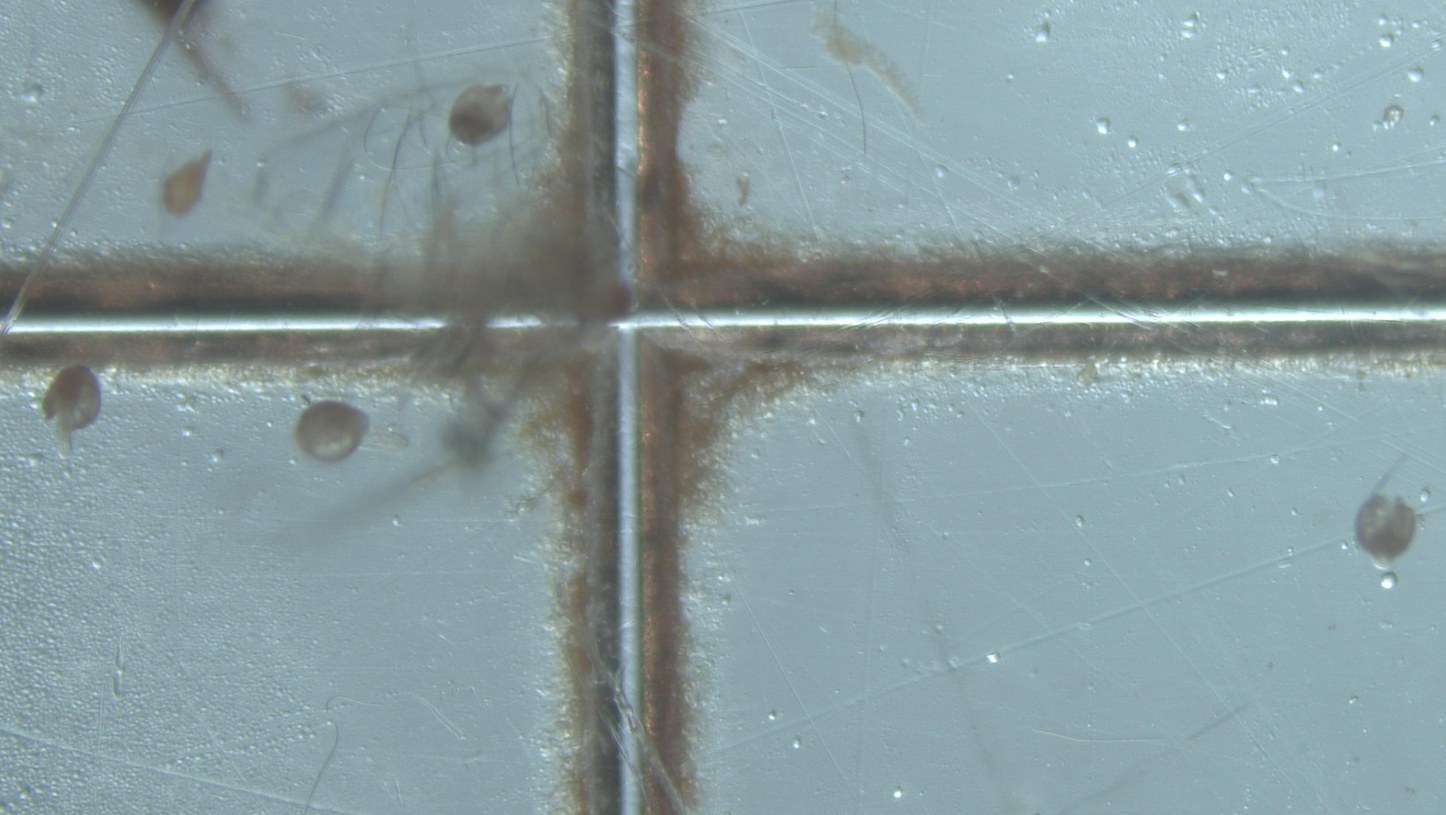live: (40, 366, 101, 457), (294, 400, 368, 462), (1355, 494, 1418, 563), (448, 85, 511, 147)
